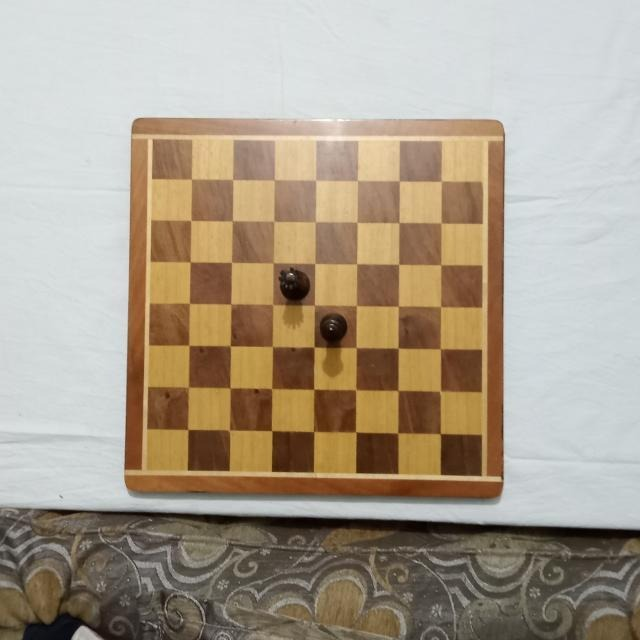black-king: (318, 313, 349, 342)
black-queen: (278, 265, 312, 301)
